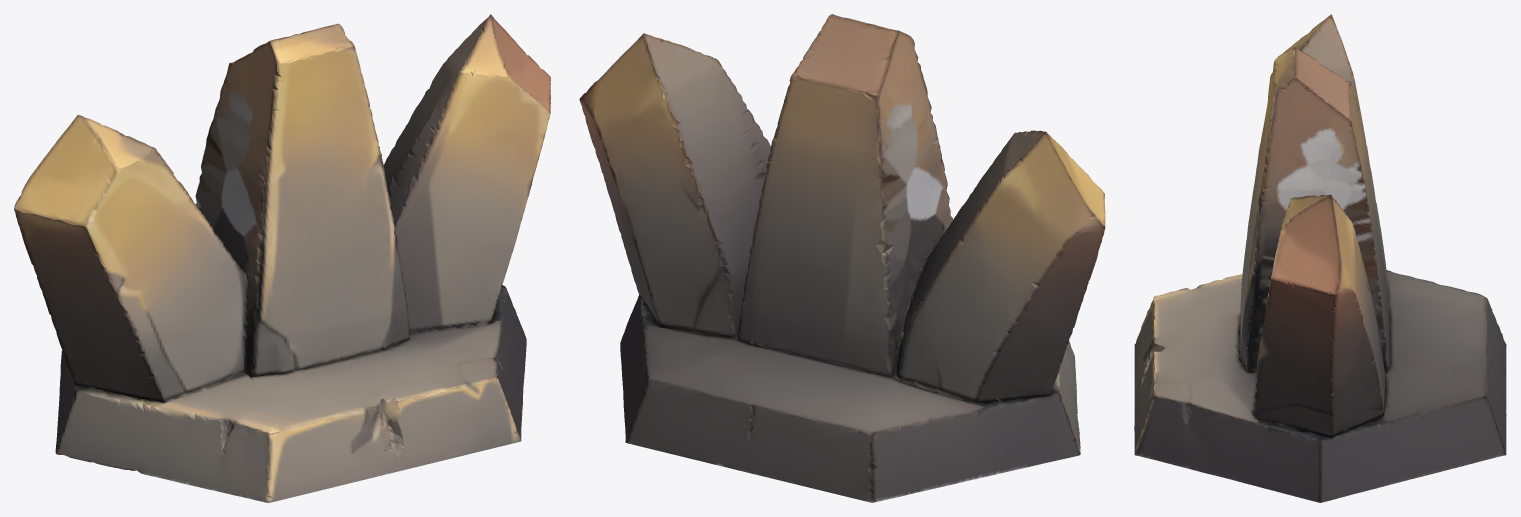
Rendered from Rock_Cluster.glb.
3 renders of one model, left to right at view 1: azimuth 30°, elevation 25°; view 2: azimuth 150°, elevation 25°; view 3: azimuth 270°, elevation 25°, orthographic. The views are drawn at different scales.
Parts seen in each view (by area): view 1: RockCluster; view 2: RockCluster; view 3: RockCluster.
Part boxes in pixels (box(x1,y1,x2,y2)): RockCluster: box(14, 14, 550, 502); RockCluster: box(579, 14, 1105, 502); RockCluster: box(1134, 14, 1506, 502).
Bounding box in the file's own units: 1.89 × 1.26 × 1.26.
1 material, 1 textured.
